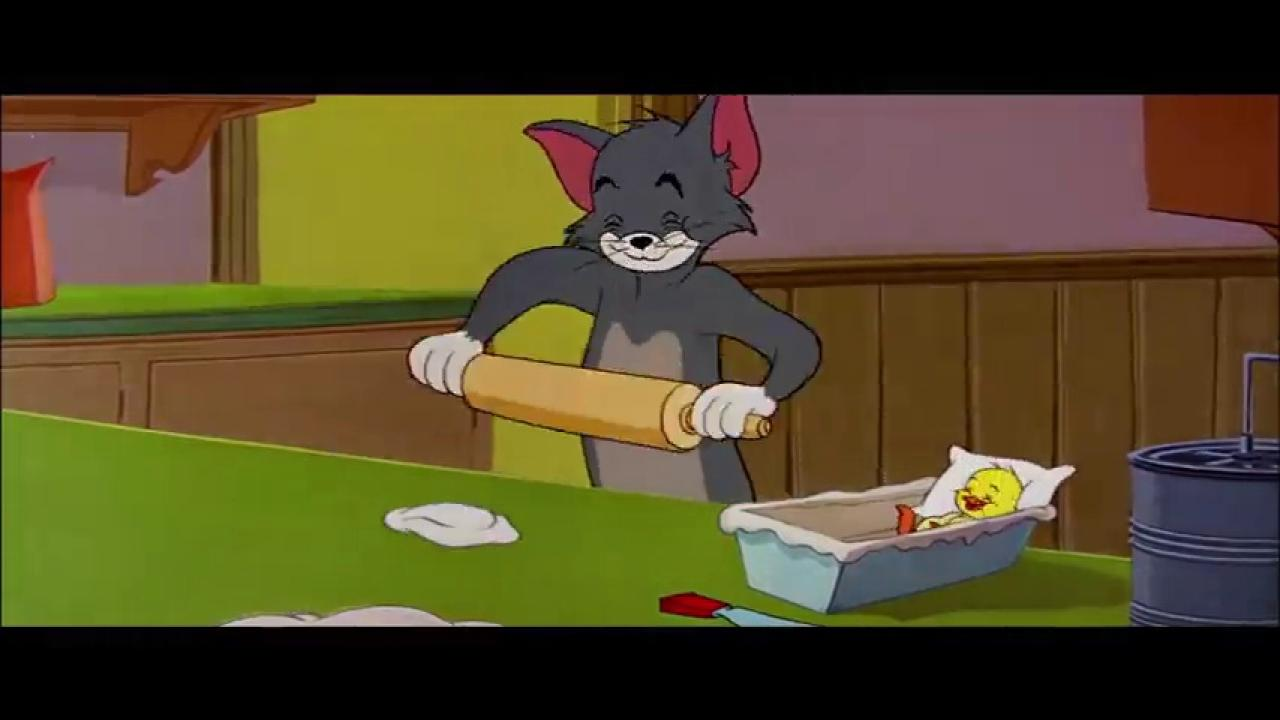Tom: (406, 92, 826, 446)
